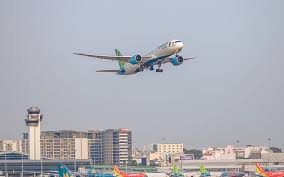maybay_dansu: (71, 35, 200, 81)
